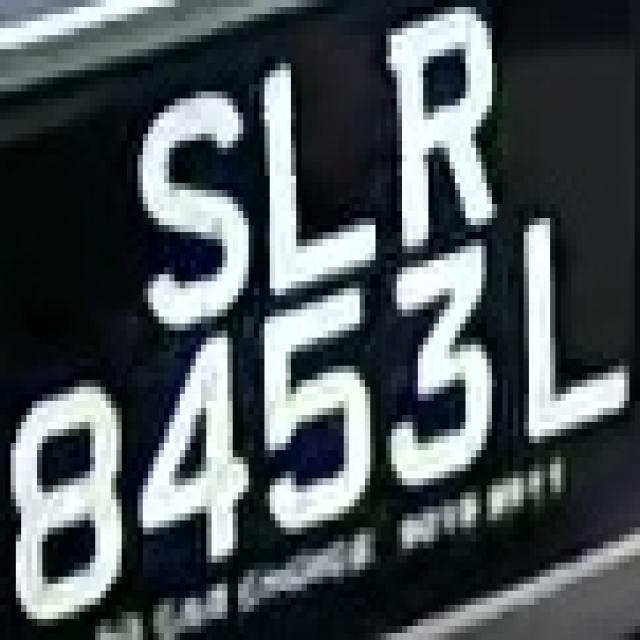3: (376, 246, 497, 506)
4: (116, 309, 270, 584)
5: (244, 260, 392, 549)
8: (10, 358, 142, 640)
L: (244, 35, 392, 288), (497, 190, 635, 450)
R: (376, 7, 508, 239)
S: (122, 84, 259, 323)
